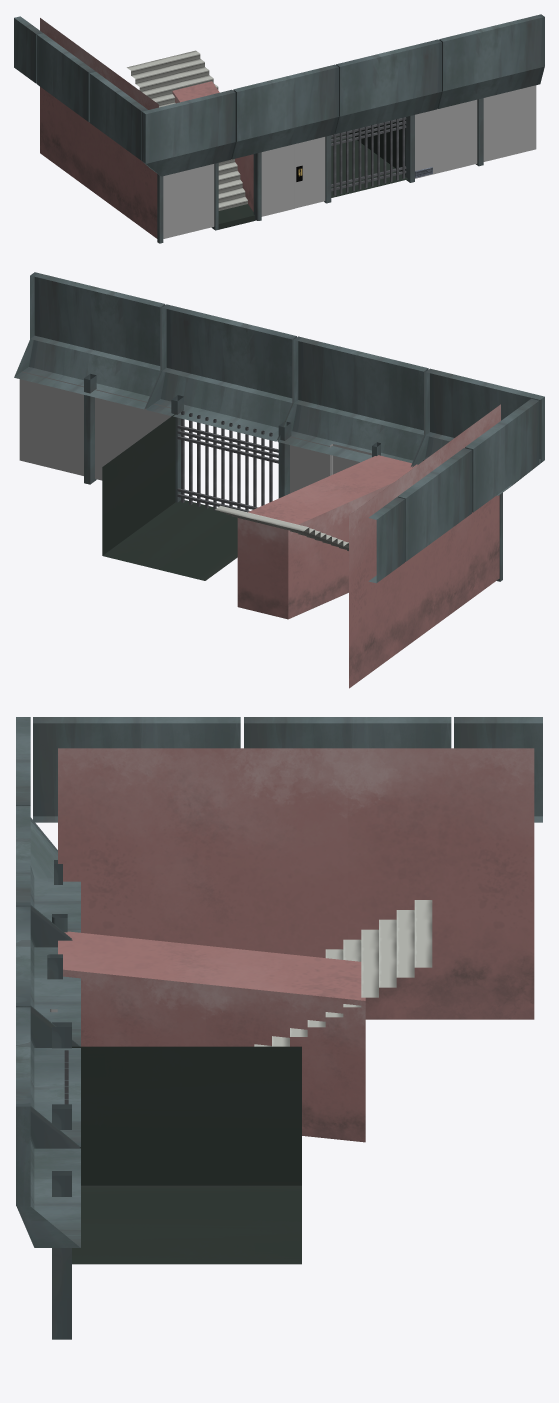
Rendered from Main_Building.fbx.
3 renders of one model, top to bottom at view 1: azimuth 30°, elevation 25°; view 2: azimuth 150°, elevation 25°; view 3: azimuth 270°, elevation 25°, orthographic. The views are drawn at different scales.
Parts seen in each view (by area): view 1: pCube28, SM_MetalWall, pCube84, pCube83, pCube82, pCube85, SM_MetalWall3, pCube296, pCube297, pCube192, SM_MetalWall2, SM_MetalWall1 (+16 smaller); view 2: pCube28, pCube191, pCube192, pCube84, pCube82, pCube83, SM_MetalWall, pCube86, pCube87, pCube85, pCube88, pCube296 (+8 smaller); view 3: pCube28, pCube192, pCube191, pCube296, pCube297, pCube86, pCube87, pCube88, pCube298, pCube89, pCube82, ConcreteBeam2 (+7 smaller).
Boxes of the visible parts, bbox=[...] form: pCube28: bbox=[40, 18, 158, 238]; SM_MetalWall: bbox=[415, 85, 536, 178]; pCube84: bbox=[233, 64, 338, 141]; pCube83: bbox=[336, 39, 441, 116]; pCube82: bbox=[439, 14, 544, 91]; pCube85: bbox=[142, 89, 235, 163]; SM_MetalWall3: bbox=[163, 164, 214, 238]; pCube296: bbox=[89, 71, 147, 160]; pCube297: bbox=[37, 33, 95, 121]; pCube192: bbox=[331, 120, 407, 197]; SM_MetalWall2: bbox=[261, 144, 294, 216]; SM_MetalWall1: bbox=[294, 137, 325, 208]; pCube28: bbox=[349, 404, 500, 688]; pCube191: bbox=[237, 455, 417, 619]; pCube192: bbox=[102, 414, 237, 580]; pCube84: bbox=[293, 336, 428, 434]; pCube82: bbox=[30, 272, 165, 370]; pCube83: bbox=[162, 304, 296, 402]; SM_MetalWall: bbox=[19, 371, 171, 480]; pCube86: bbox=[14, 339, 161, 409]; pCube87: bbox=[146, 371, 293, 441]; pCube85: bbox=[425, 368, 544, 463]; pCube88: bbox=[277, 403, 425, 466]; pCube296: bbox=[465, 398, 539, 512]; pCube28: bbox=[58, 748, 534, 1019]; pCube192: bbox=[72, 1046, 301, 1264]; pCube191: bbox=[58, 931, 365, 1142]; pCube296: bbox=[33, 717, 240, 822]; pCube297: bbox=[244, 717, 451, 748]; pCube86: bbox=[16, 1107, 80, 1247]; pCube87: bbox=[30, 1006, 80, 1147]; pCube88: bbox=[30, 906, 80, 1046]; pCube298: bbox=[454, 717, 542, 822]; pCube89: bbox=[30, 817, 80, 939]; pCube82: bbox=[16, 1007, 30, 1205]; ConcreteBeam2: bbox=[52, 1171, 71, 1339].
Size of the model in its own units: 1279 by 438 by 728.
